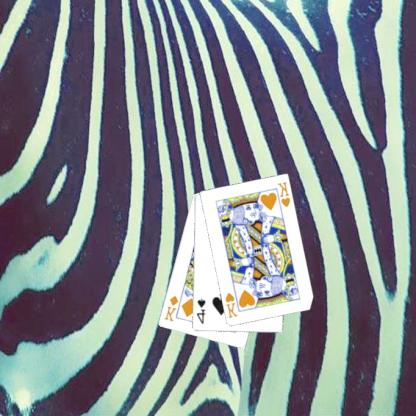4S: (195, 296, 209, 325)
KD: (164, 292, 181, 322)
KH: (276, 179, 293, 209), (224, 290, 240, 319)
